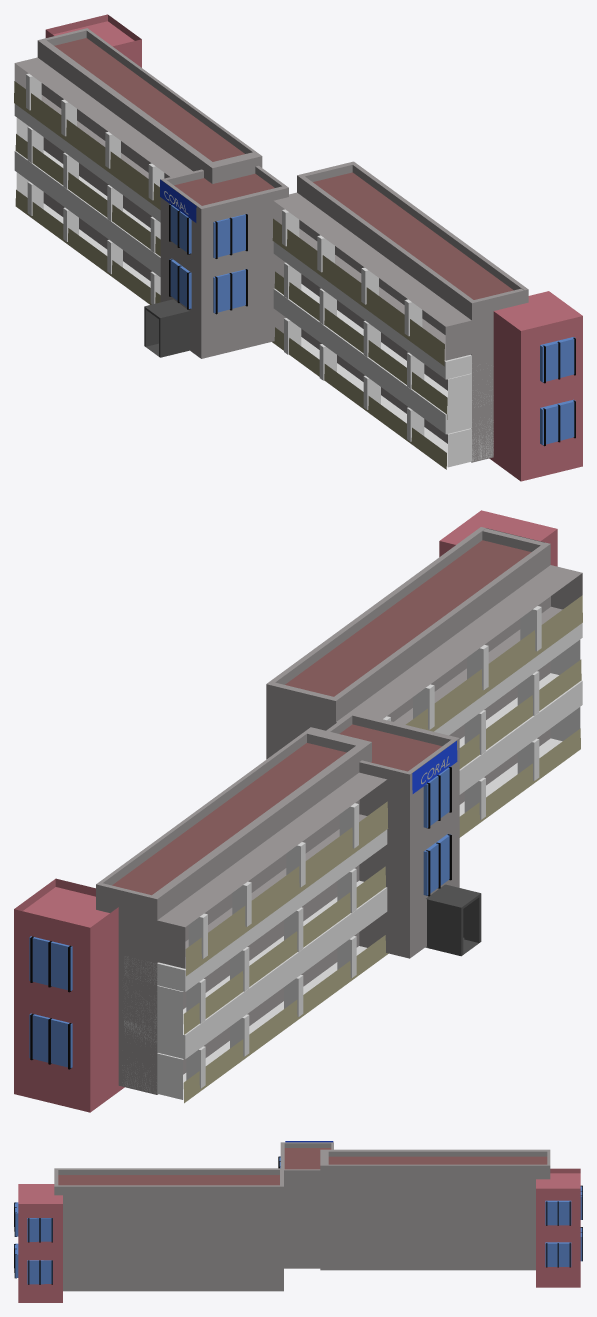
File: coral.glb
The picture shows the model from 3 angles, top to bottom: view 1: azimuth 30°, elevation 25°; view 2: azimuth 150°, elevation 25°; view 3: azimuth 270°, elevation 25°; orthographic projection. The views are drawn at different scales.
Visible parts, largest first — view 1: Cube.002, Cube, Cube.001, Cube.003, Cube.024, Cube.009, Cube.004, Plane.004, Cube.006, Plane.001, Plane.005, Plane.006 (+16 smaller); view 2: Cube.001, Cube.002, Cube.040, Cube, Cube.024, Cube.009, Cube.006, Plane.001, Plane.004, Plane.003, Cube.008, Plane.002 (+14 smaller); view 3: Cube.002, Cube.001, Cube, Cube.003, Cube.040, Cube.054, Cube.049, Cube.055, Cube.053.
Part boxes in pixels (bbox=[...]): Cube.002: bbox=[297, 161, 528, 462]; Cube: bbox=[160, 165, 288, 358]; Cube.001: bbox=[37, 28, 262, 280]; Cube.003: bbox=[489, 291, 582, 481]; Cube.024: bbox=[274, 192, 493, 360]; Cube.009: bbox=[14, 57, 192, 178]; Cube.004: bbox=[273, 284, 493, 434]; Plane.004: bbox=[272, 218, 444, 366]; Cube.006: bbox=[14, 150, 160, 276]; Plane.001: bbox=[14, 81, 160, 209]; Plane.005: bbox=[274, 271, 447, 419]; Plane.006: bbox=[272, 327, 446, 469]; Cube.001: bbox=[96, 727, 371, 1094]; Cube.002: bbox=[266, 527, 550, 804]; Cube.040: bbox=[14, 878, 124, 1112]; Cube: bbox=[326, 712, 459, 958]; Cube.024: bbox=[298, 565, 582, 735]; Cube.009: bbox=[124, 772, 386, 968]; Cube.006: bbox=[124, 880, 387, 1059]; Plane.001: bbox=[185, 801, 388, 976]; Plane.004: bbox=[405, 595, 582, 731]; Plane.003: bbox=[183, 935, 388, 1103]; Cube.008: bbox=[124, 829, 387, 991]; Plane.002: bbox=[183, 866, 385, 1034]; Cube.002: bbox=[54, 1168, 283, 1291]; Cube.001: bbox=[320, 1149, 550, 1270]; Cube: bbox=[280, 1142, 333, 1268]; Cube.003: bbox=[18, 1184, 62, 1302]; Cube.040: bbox=[536, 1168, 580, 1287]; Cube.054: bbox=[545, 1200, 571, 1225]; Cube.049: bbox=[545, 1242, 571, 1266]; Cube.055: bbox=[27, 1260, 52, 1284]; Cube.053: bbox=[27, 1218, 52, 1242].
Size of the model in its own units: 9.17 by 6.73 by 32.14.
